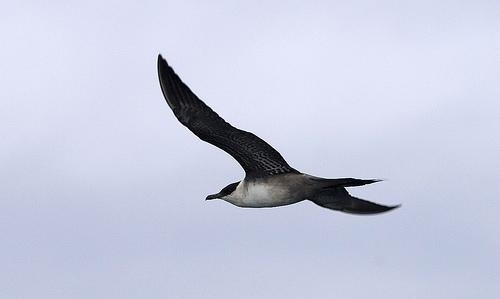bird: (155, 52, 404, 215)
